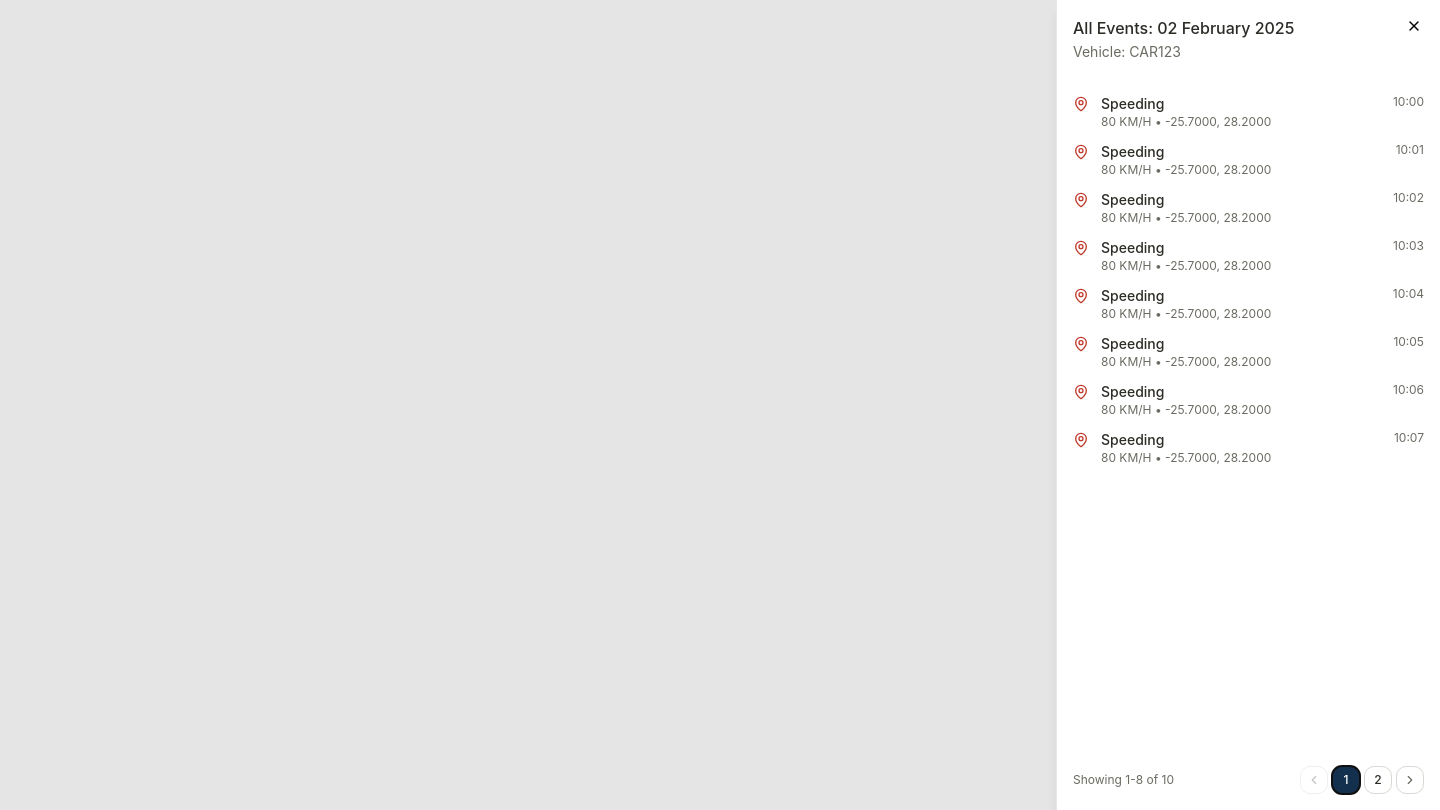
Test case: AllEventsPanel › goes to second page
What coordinates should you click on to do the following:
click the button with test id "events-page-next"
I would click on:
 (1410, 780)
Its box is left=1396, top=766, right=1424, bottom=794.
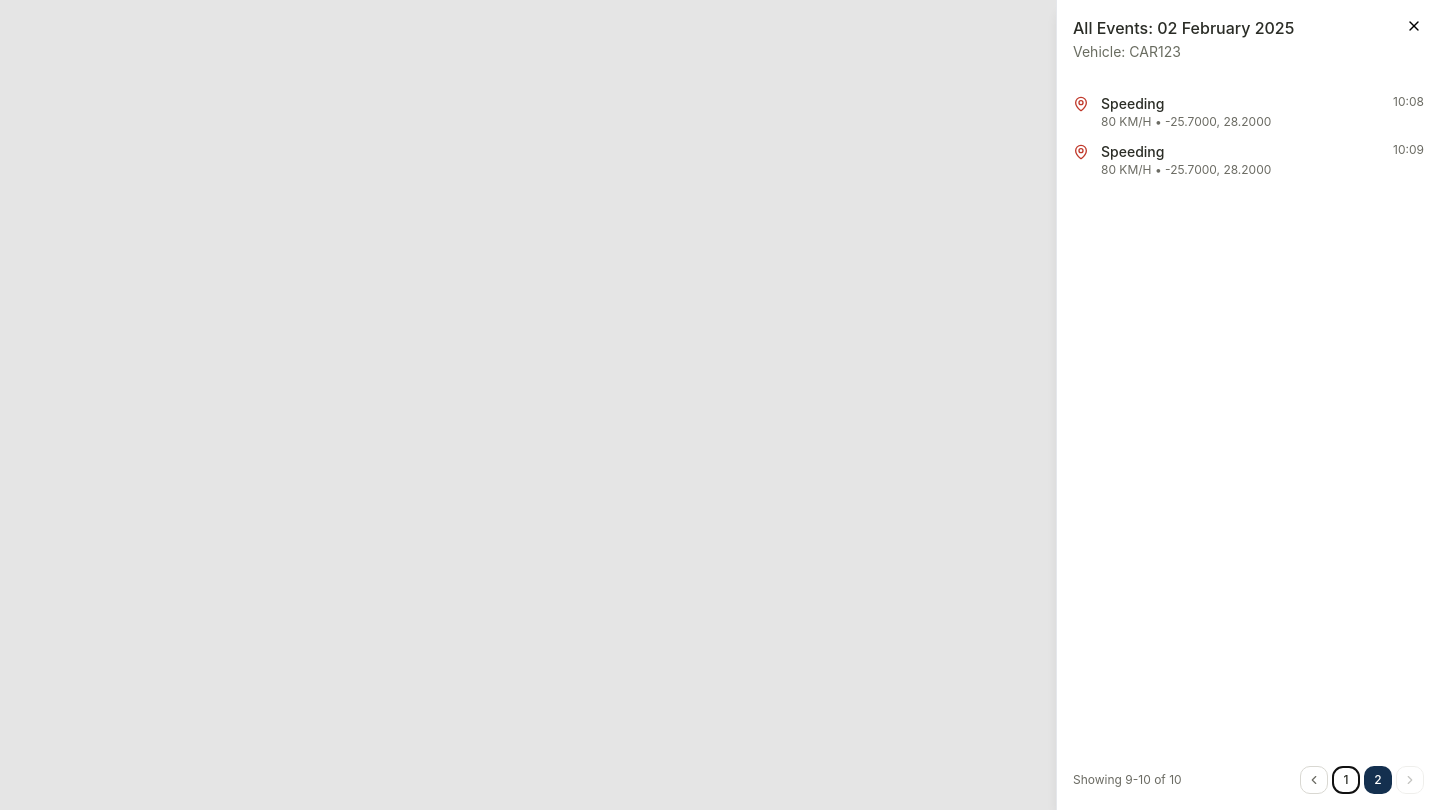
Expected: the text "Showing 9-10 of 10" is shown, left=1073, top=772, right=1182, bottom=788
